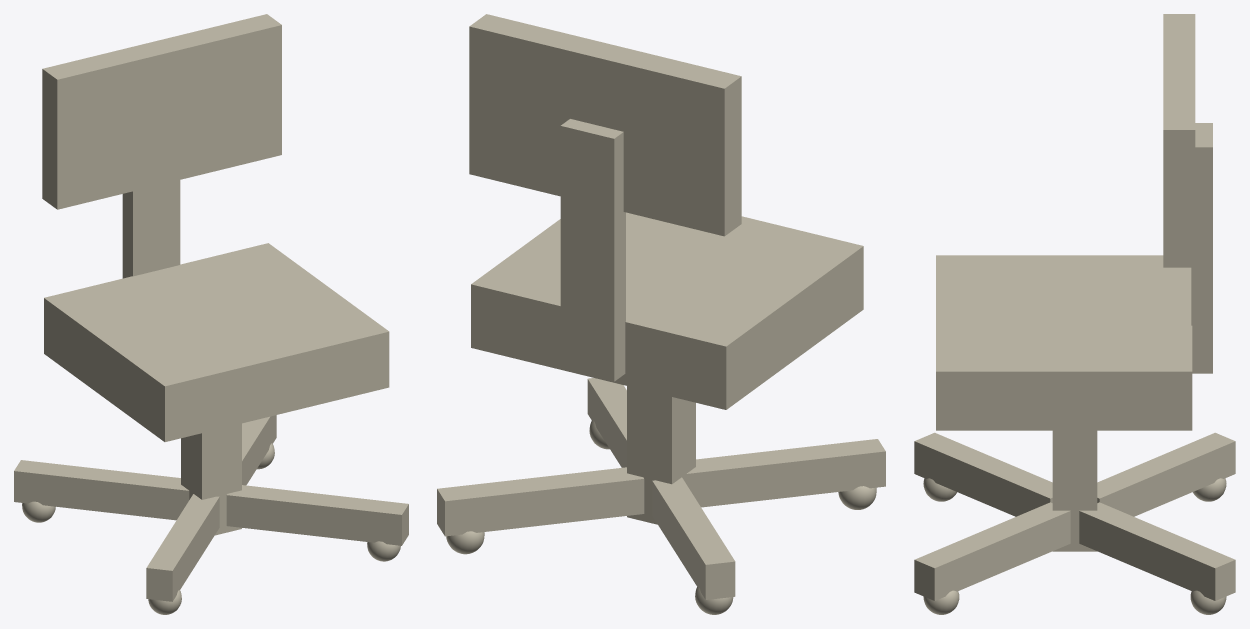
File: test_chair01.fbx
The picture shows the model from 3 angles, left to right: view 1: azimuth 30°, elevation 25°; view 2: azimuth 150°, elevation 25°; view 3: azimuth 270°, elevation 25°; orthographic projection. The views are drawn at different scales.
Parts seen in each view (by area): view 1: pCube6; view 2: pCube6; view 3: pCube6.
Boxes of the visible parts, <box> form: pCube6: <box>14,14,408,614</box>; pCube6: <box>437,14,885,614</box>; pCube6: <box>914,14,1235,614</box>.
Size of the model in its own units: 234 by 389 by 234.
